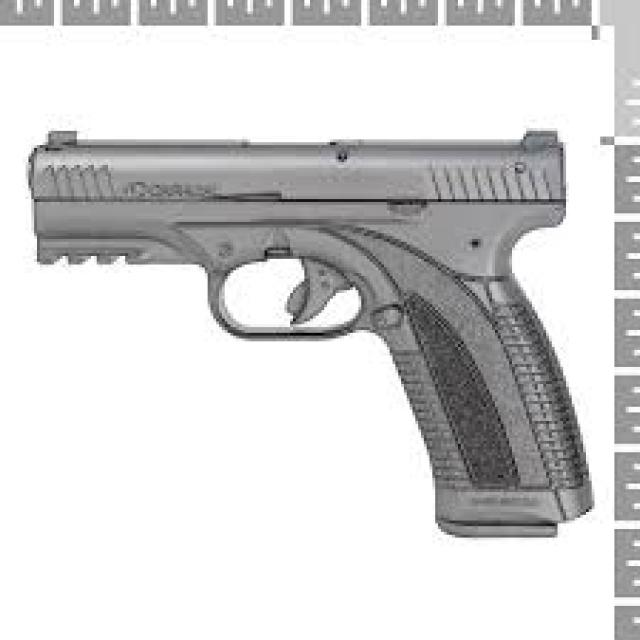Gun: (37, 114, 611, 572)
